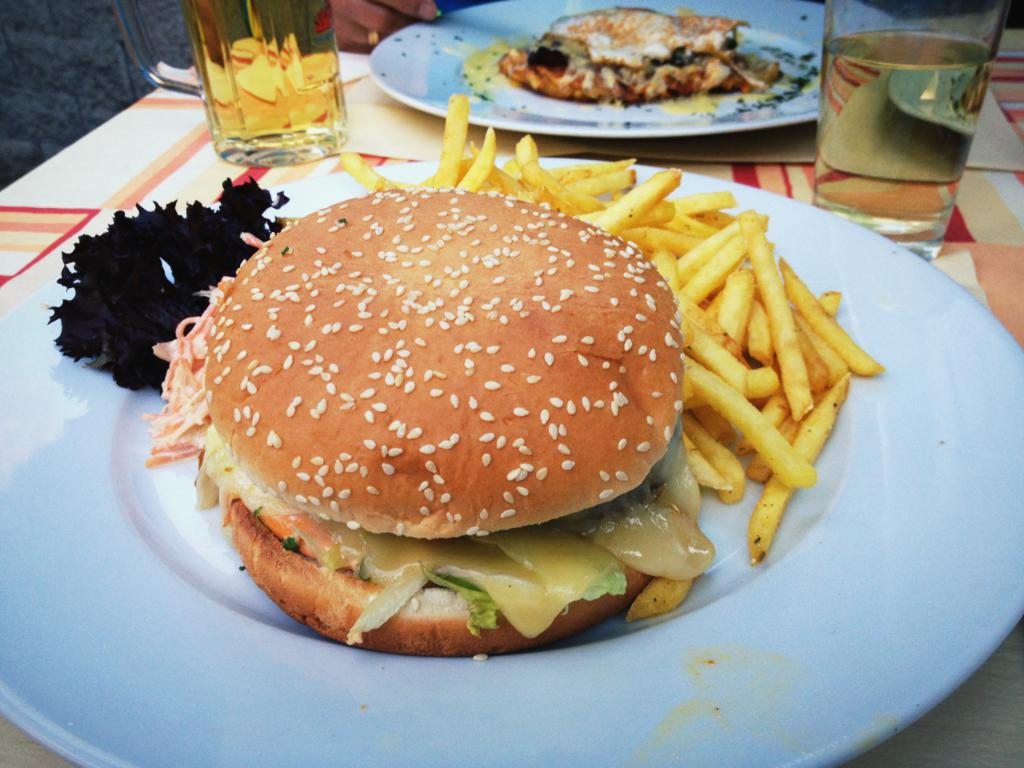Hamburger: (195, 186, 720, 649)
